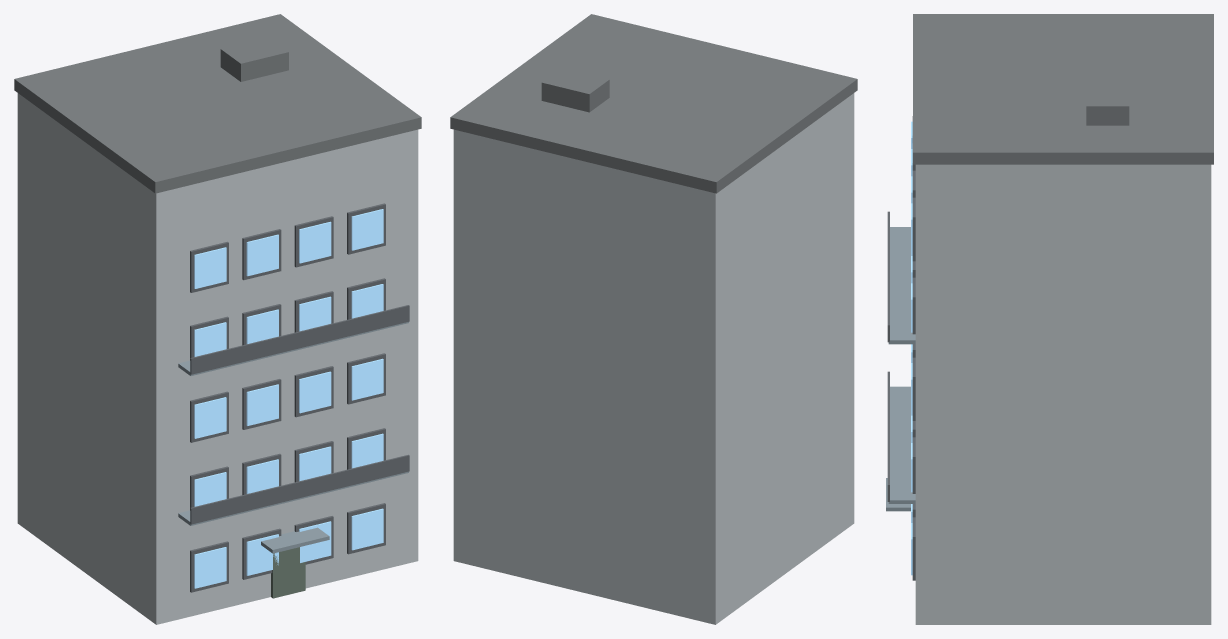
File: building_residential_c.glb
The picture shows the model from 3 angles, left to right: view 1: azimuth 30°, elevation 25°; view 2: azimuth 150°, elevation 25°; view 3: azimuth 270°, elevation 25°; orthographic projection. The views are drawn at different scales.
Visible parts, largest first — view 1: building_residential_c; view 2: building_residential_c; view 3: building_residential_c.
Part boxes in pixels (left/top/right/bottom): building_residential_c: left=14, top=14, right=421, bottom=624; building_residential_c: left=450, top=14, right=857, bottom=624; building_residential_c: left=886, top=14, right=1213, bottom=624.
Size of the model in its own units: 12.2 by 20.25 by 12.2.
